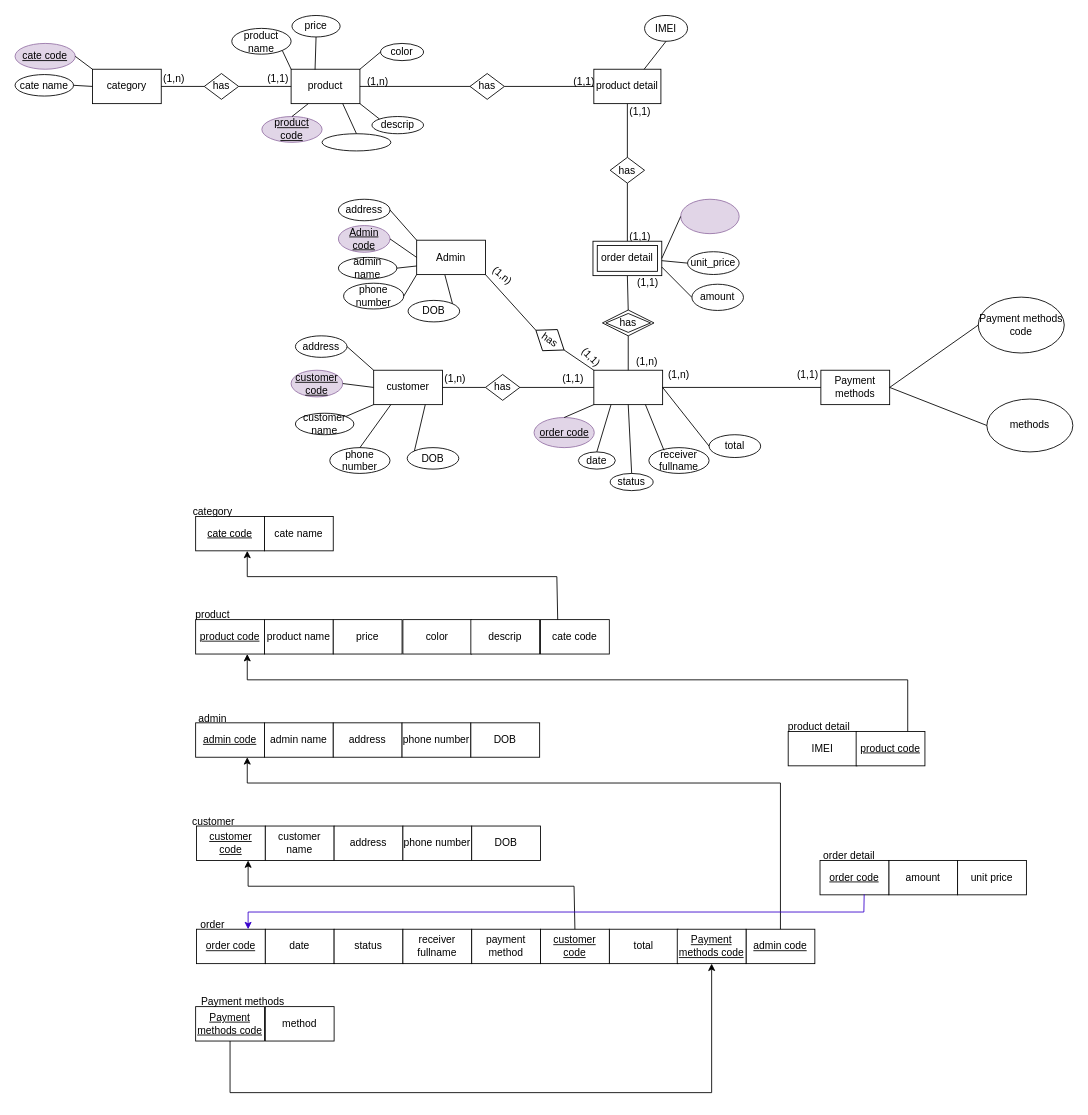
Image size: 1088x1115. Some labels were removed from this diagram. Here are the shapes that lost their labels. From the top down, the centre of each, then its label:
At pixel 356 142: "release_date".
At pixel 709 216: "order detail code".
At pixel 628 387: "orders".
